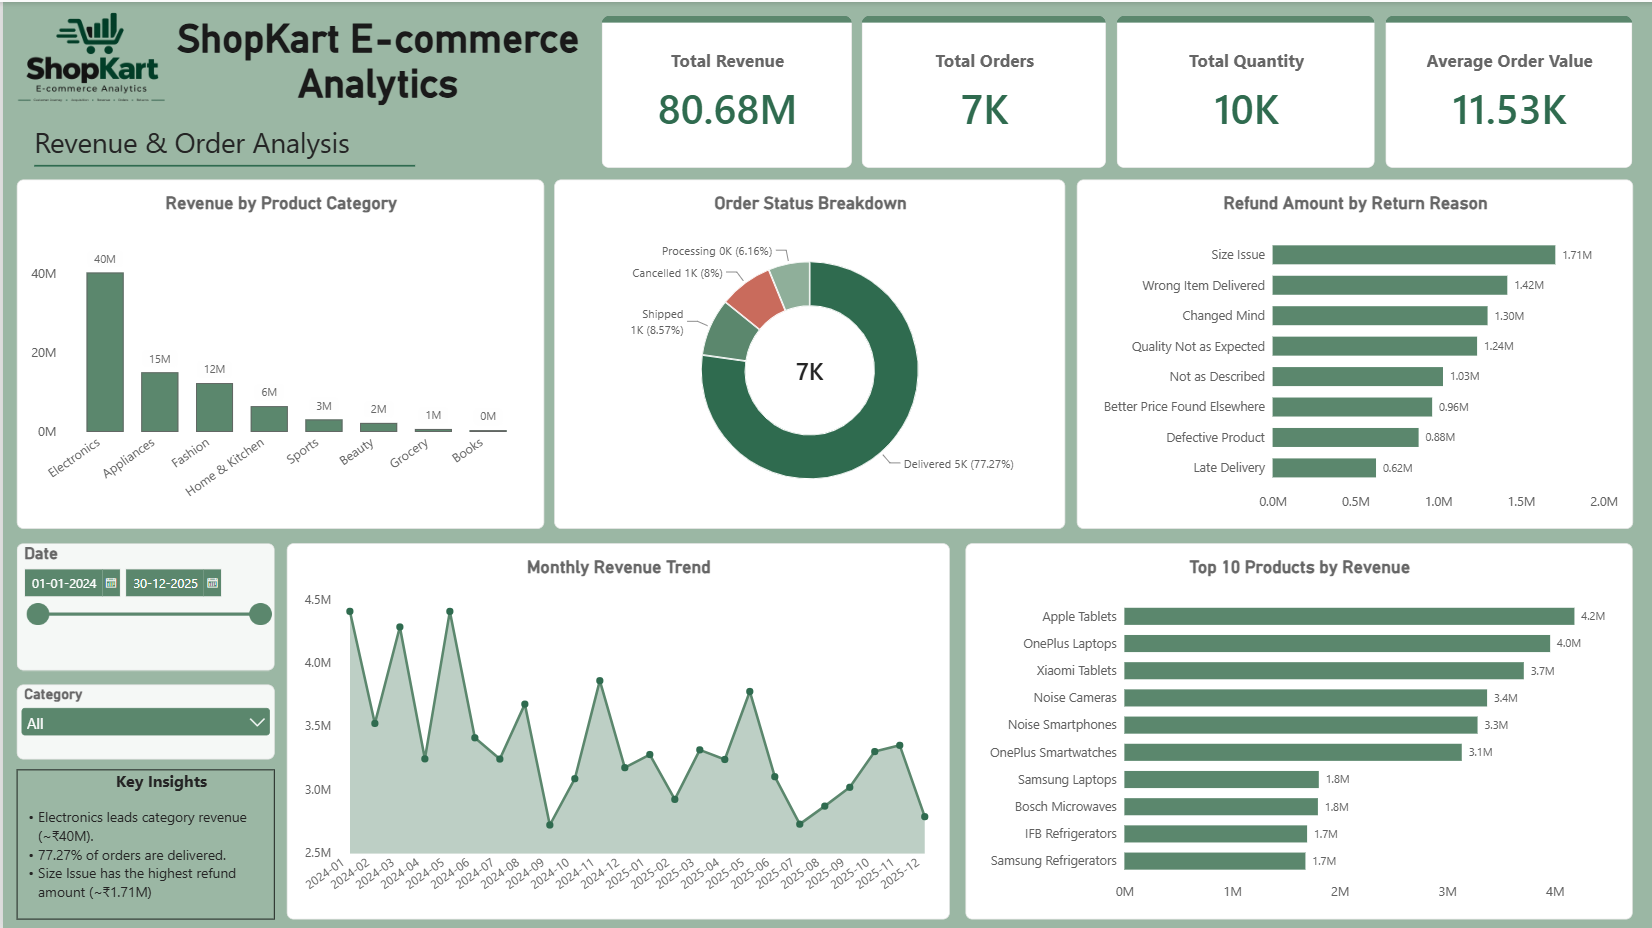

What the dashboard file says about the page in this screenshot:
{"tool":"powerbi","page":{"name":"Revenue & Orders","canvas":[1920,1080],"ordinal":1},"visuals":[{"type":"cardVisual","fields":{"Data":["orders.Total Revenue"]},"box":[695.9,15.7,291.3,177.9],"z":0},{"type":"cardVisual","fields":{"Data":["orders.Average Order Value"]},"box":[1608.1,15.7,287.8,177.9],"z":1000},{"type":"cardVisual","fields":{"Data":["orders.Total Orders"]},"box":[999.4,15.7,284.3,177.9],"z":2000},{"type":"cardVisual","fields":{"Data":["orders.Total Quantity"]},"box":[1295.9,15.7,300,177.9],"z":3000},{"type":"lineChart","title":"Monthly Revenue Trend","fields":{"Category":["DateTable.Year Month"],"Y":["orders.Total Revenue"]},"box":[329.7,629.7,770.9,437.8],"z":4000},{"type":"donutChart","title":"Order Status Breakdown","fields":{"Category":["orders.order_status"],"Y":["orders.Total Orders"]},"box":[641.9,205.8,594.8,406.4],"z":5000},{"type":"clusteredColumnChart","title":"Revenue by Product Category","fields":{"Category":["products.category"],"Y":["orders.Total Revenue"]},"box":[15.7,205.8,614,406.4],"z":6000},{"type":"clusteredBarChart","title":"Top 10 Products by Revenue","fields":{"Category":["products.product_name"],"Y":["orders.Total Revenue"]},"box":[1119.8,629.7,776.2,437.8],"z":7000},{"type":"clusteredBarChart","title":"Refund Amount by Return Reason","fields":{"Category":["returns.return_reason"],"Y":["returns.Total Refund Amount"]},"box":[1248.8,205.8,647.1,406.4],"z":8000},{"type":"textbox","box":[15.7,893,300,174.4],"z":9000},{"type":"textbox","title":"ShopKart E-commerce Analytics","box":[190.1,15.7,491.9,111.6],"z":10000},{"type":"textbox","box":[36.6,141.3,474.4,80.2],"z":11000},{"type":"shape","box":[36.6,160.5,443,61],"z":12000},{"type":"slicer","fields":{"Values":["products.category"]},"box":[15.7,793.6,300,87.2],"z":13000},{"type":"slicer","fields":{"Values":["DateTable.Date"]},"box":[15.7,629.7,300,148.3],"z":14000},{"type":"image","box":[0,0,205.8,127.3],"z":15000}]}

Visuals, with their boxes in screenshot pixels (x1, y1, x2, y2), scaled from the page's 1920x1080 canvas onto the 1652x928 screenshot:
cardVisual - orders.Total Revenue: bbox=[599, 13, 849, 166]
cardVisual - orders.Average Order Value: bbox=[1384, 13, 1631, 166]
cardVisual - orders.Total Orders: bbox=[860, 13, 1105, 166]
cardVisual - orders.Total Quantity: bbox=[1115, 13, 1373, 166]
"Monthly Revenue Trend" lineChart: bbox=[284, 541, 947, 917]
"Order Status Breakdown" donutChart: bbox=[552, 177, 1064, 526]
"Revenue by Product Category" clusteredColumnChart: bbox=[14, 177, 542, 526]
"Top 10 Products by Revenue" clusteredBarChart: bbox=[963, 541, 1631, 917]
"Refund Amount by Return Reason" clusteredBarChart: bbox=[1074, 177, 1631, 526]
textbox: bbox=[14, 767, 272, 917]
"ShopKart E-commerce Analytics" textbox: bbox=[164, 13, 587, 109]
textbox: bbox=[31, 121, 440, 190]
shape: bbox=[31, 138, 413, 190]
slicer - products.category: bbox=[14, 682, 272, 757]
slicer - DateTable.Date: bbox=[14, 541, 272, 669]
image: bbox=[0, 0, 177, 109]
